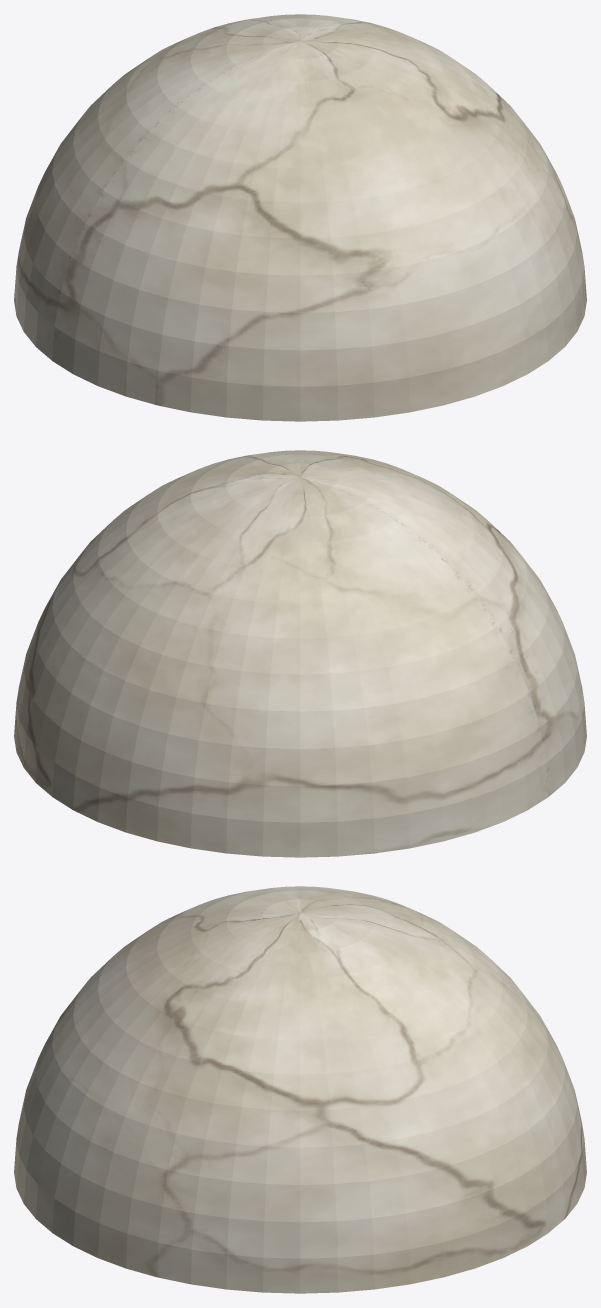
The model's file is icosphere_half.glb.
3 renders of one model, top to bottom at view 1: azimuth 30°, elevation 25°; view 2: azimuth 150°, elevation 25°; view 3: azimuth 270°, elevation 25°, orthographic.
Visible parts, largest first — view 1: Sphere; view 2: Sphere; view 3: Sphere.
Boxes of the visible parts, x1=… form: Sphere: x1=14, y1=14, x2=586, y2=421; Sphere: x1=14, y1=450, x2=586, y2=857; Sphere: x1=14, y1=886, x2=586, y2=1293.
Bounding box in the file's own units: 2 × 1 × 2.
1 material, 1 textured.
